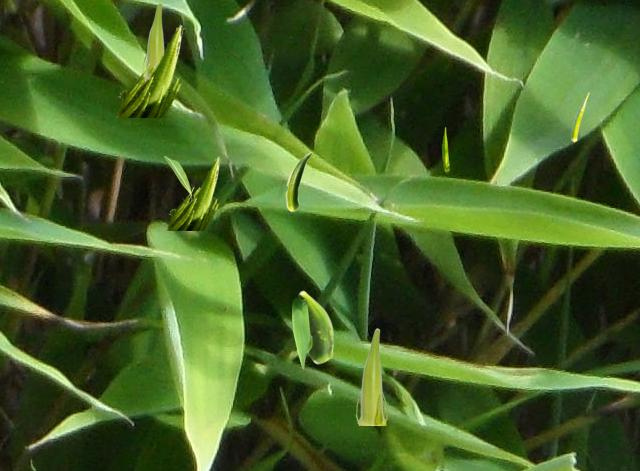okra: (115, 24, 183, 116), (166, 156, 220, 229), (355, 328, 386, 424), (298, 290, 333, 363), (142, 2, 164, 79), (285, 152, 311, 211), (571, 92, 588, 141), (442, 127, 448, 172)
